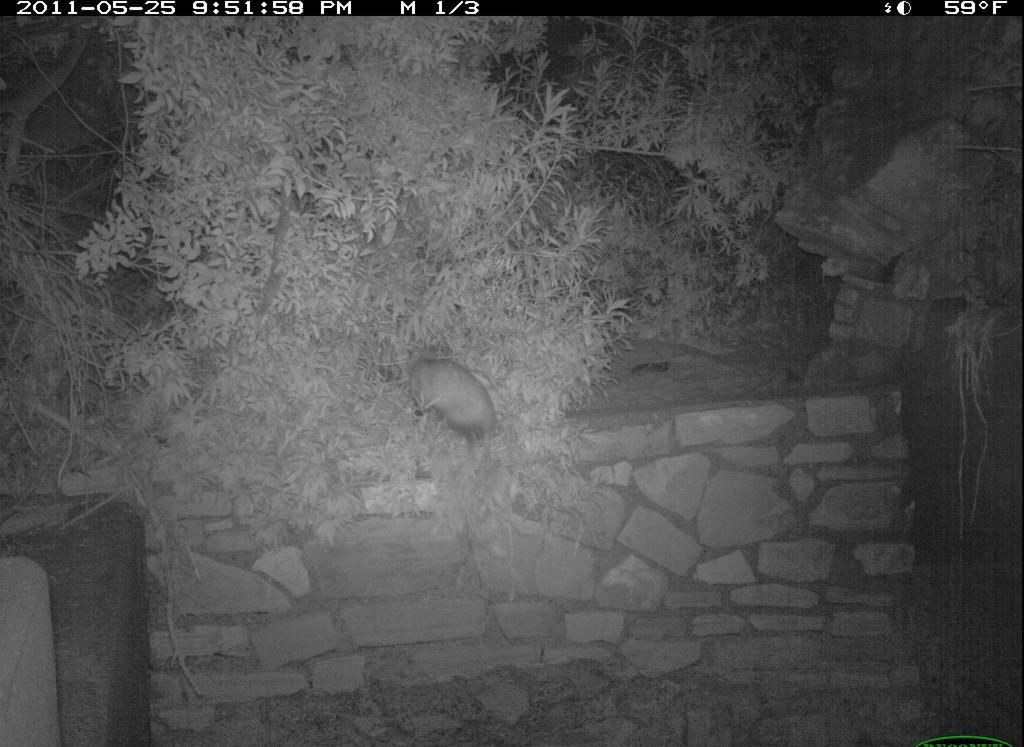opossum: (388, 354, 529, 465)
